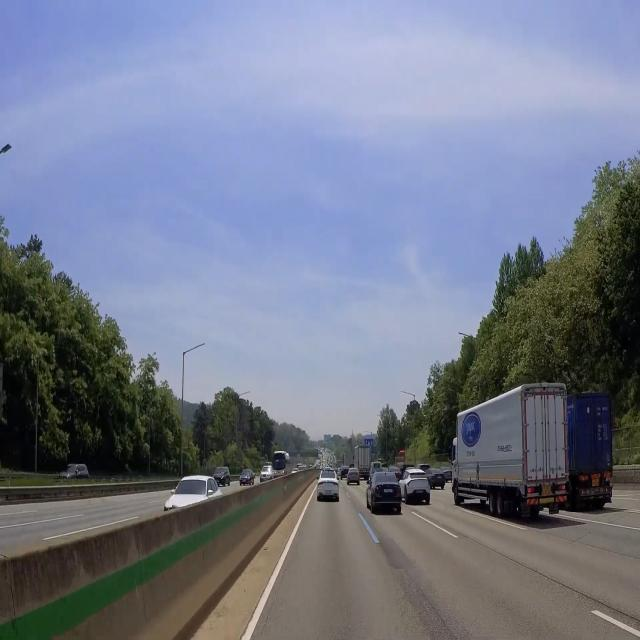car: (540, 482, 555, 498), (590, 475, 601, 489), (383, 487, 395, 495), (415, 487, 425, 496), (323, 489, 332, 497), (436, 475, 443, 479)
